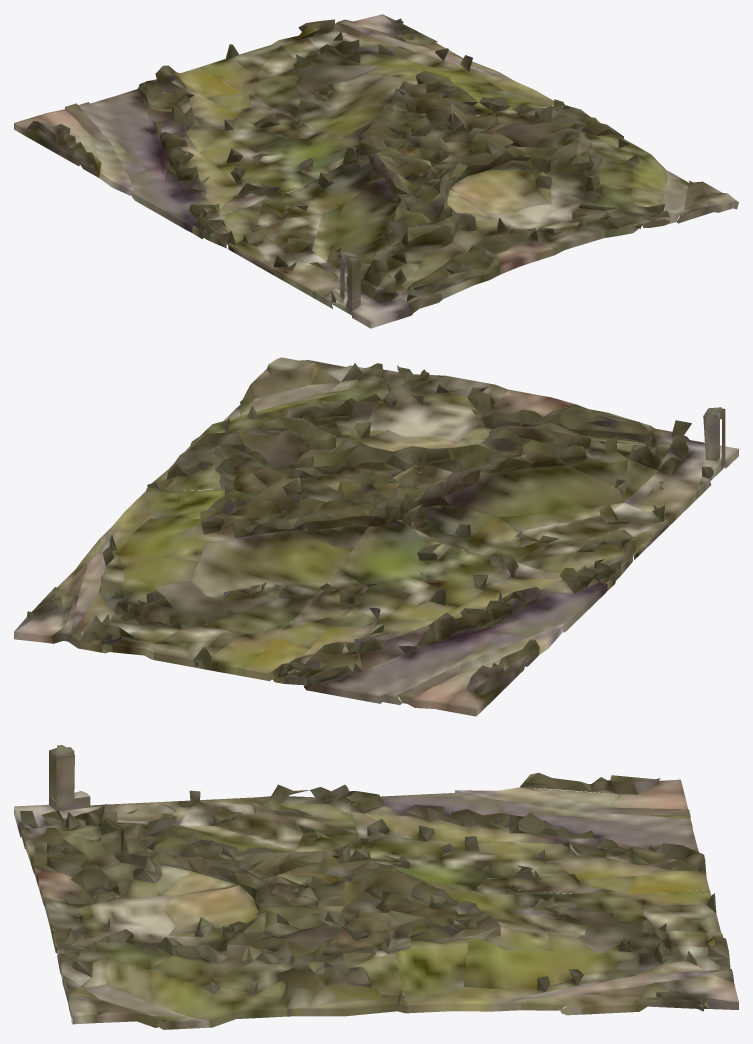
3 renders of one model, top to bottom at view 1: azimuth 30°, elevation 25°; view 2: azimuth 150°, elevation 25°; view 3: azimuth 270°, elevation 25°, orthographic. The views are drawn at different scales.
Parts seen in each view (by area): view 1: Mesh_0; view 2: Mesh_0; view 3: Mesh_0.
Part boxes in pixels (left/top/right/bottom): Mesh_0: left=14, top=14, right=738, bottom=328; Mesh_0: left=14, top=357, right=738, bottom=716; Mesh_0: left=14, top=745, right=738, bottom=1029.
Bounding box in the file's own units: 533 × 79.75 × 659.
Materials: 1 (1 with a texture image).
